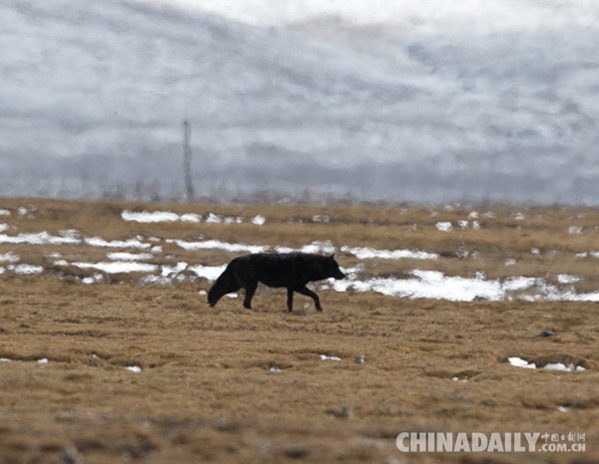Lobo: (200, 245, 356, 310)
